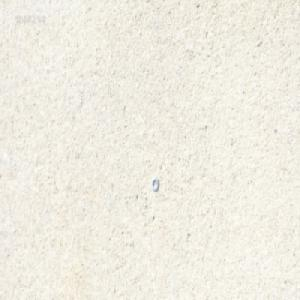Washer: (151, 176, 159, 192)
